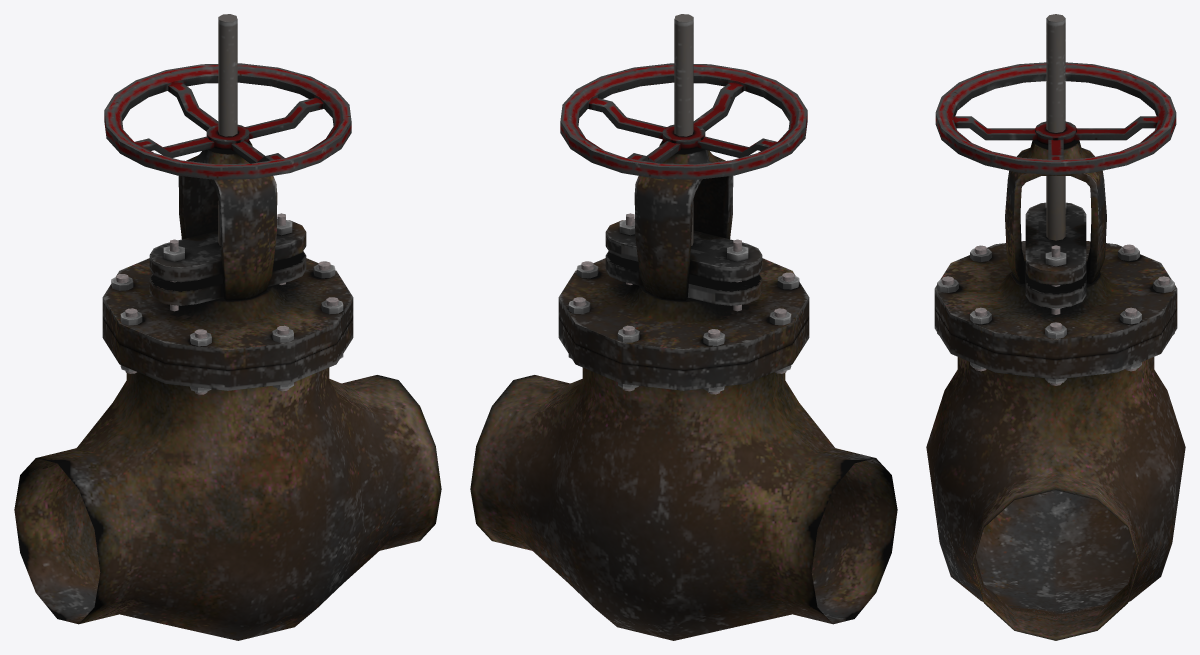
File: NM_BigTube_Valve_01.fbx
3 views of the same model, side by side, from view 1: azimuth 30°, elevation 25°; view 2: azimuth 150°, elevation 25°; view 3: azimuth 270°, elevation 25° (orthographic). The views are drawn at different scales.
Parts seen in each view (by area): view 1: BigTube_08_low002, Detail_09_low002; view 2: BigTube_08_low002, Detail_09_low002; view 3: BigTube_08_low002, Detail_09_low002.
Boxes of the visible parts, x1,y1,x2,y2 form: BigTube_08_low002: (14,14,441,640); Detail_09_low002: (104,63,351,179); BigTube_08_low002: (470,14,897,640); Detail_09_low002: (560,63,807,179); BigTube_08_low002: (926,14,1185,640); Detail_09_low002: (935,62,1176,174).
Bounding box in the file's own units: 70.07 × 117 × 47.56.
